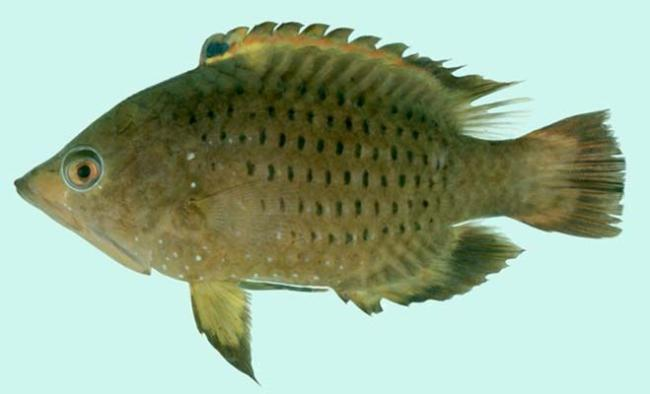fish: (15, 22, 627, 388)
